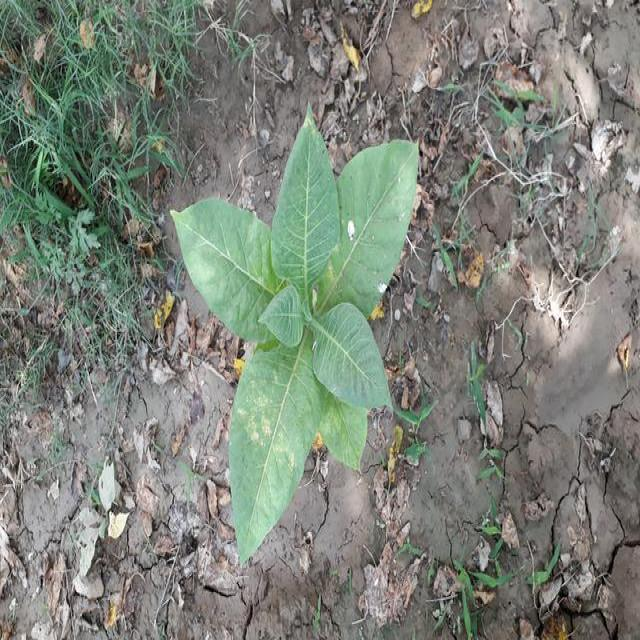crop: (172, 118, 422, 544)
